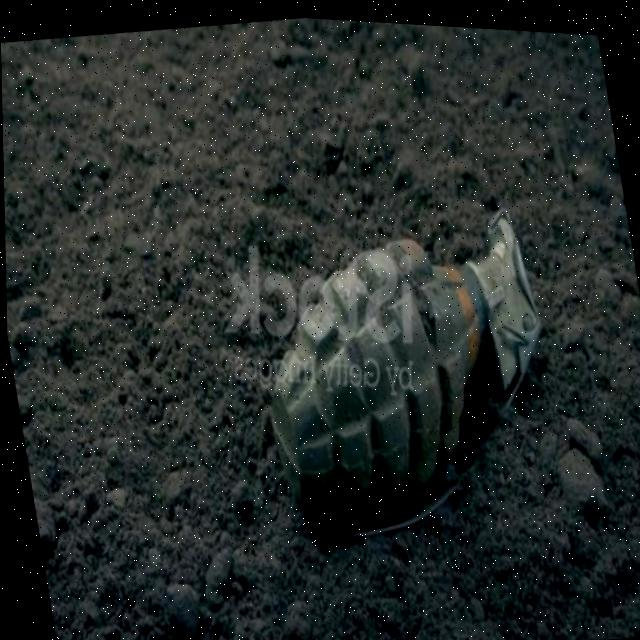grenade: (207, 145, 598, 584)
